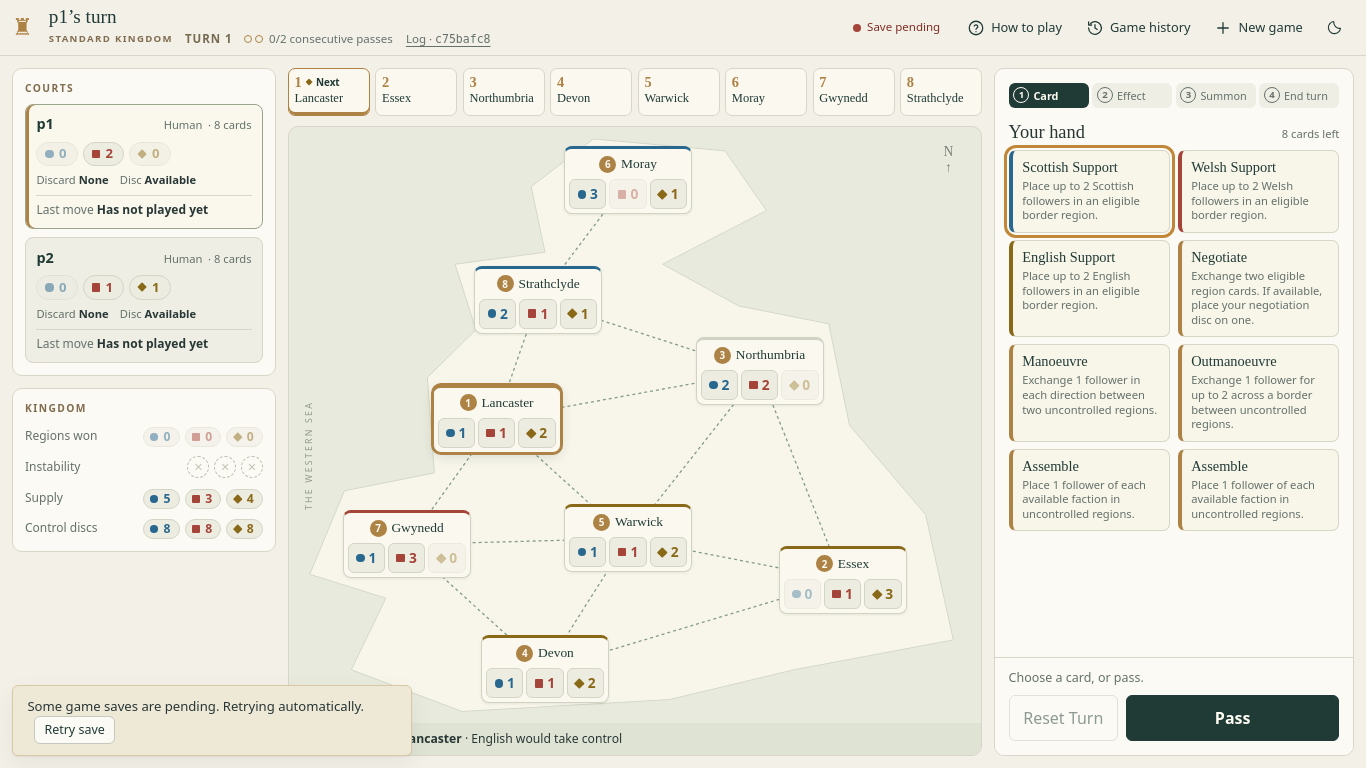
Test: recovering an interrupted game › opens the newer position when the same game advanced in another tab
Click the button "Game history" at (1138, 28), box top-left (1075, 10), bottom-right (1201, 46)
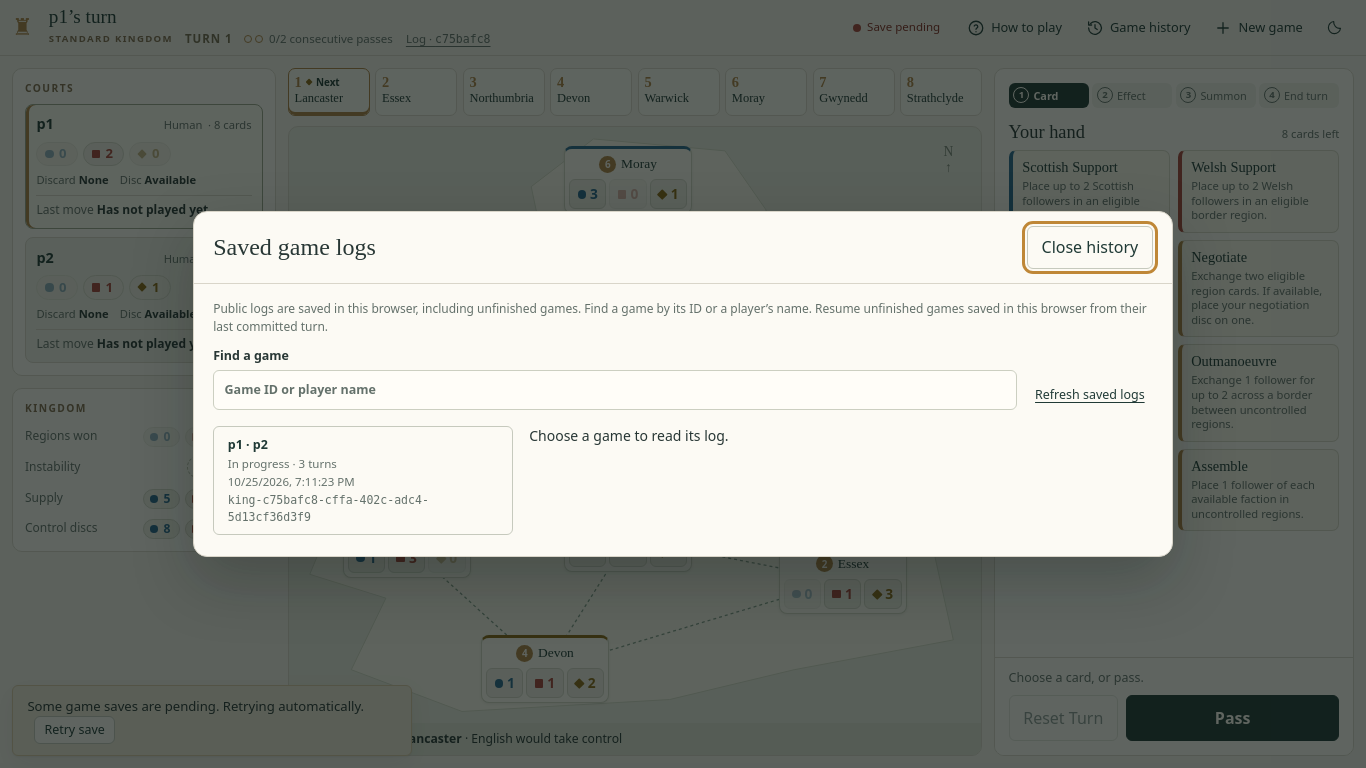
Click the button that starts with "p1 · p2" at (248, 444), box top-left (213, 426), bottom-right (513, 535)
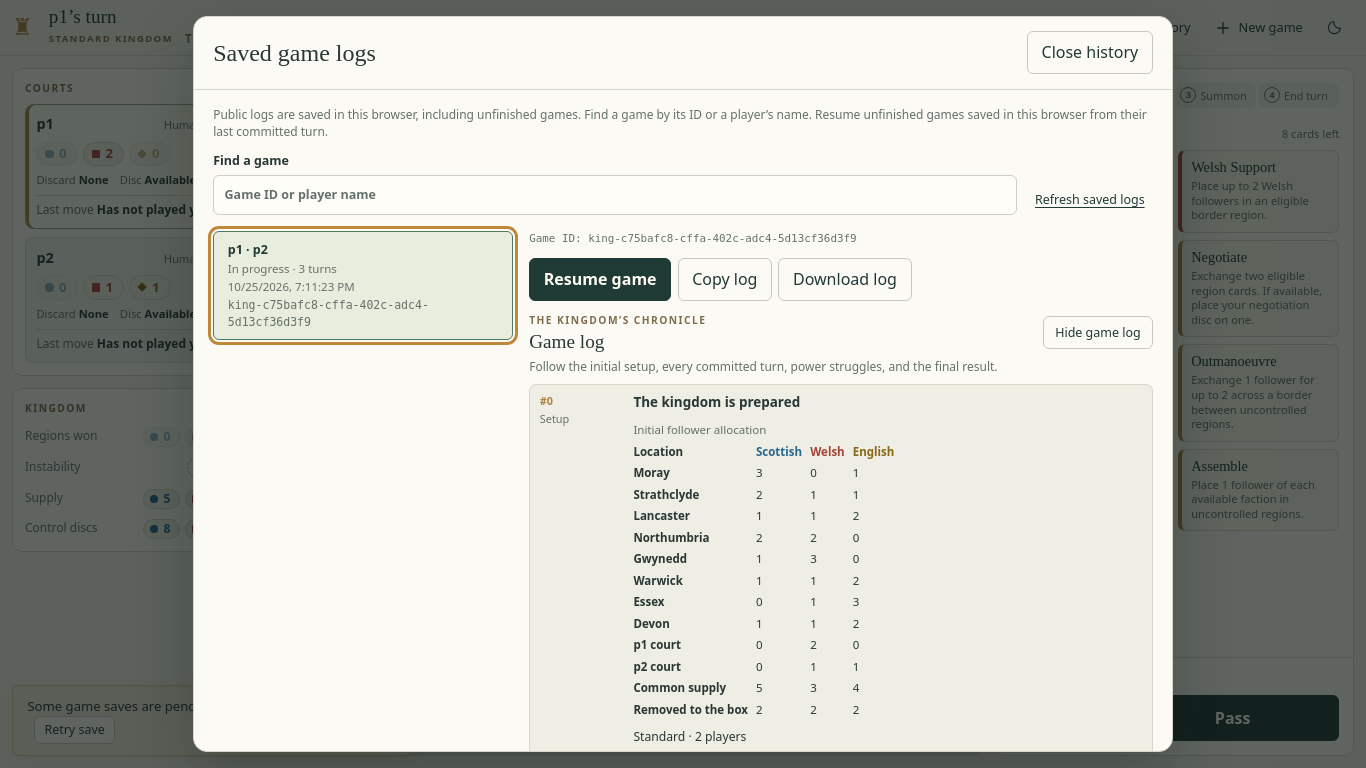
Click the button "Resume game" at (600, 279), box top-left (529, 258), bottom-right (671, 301)
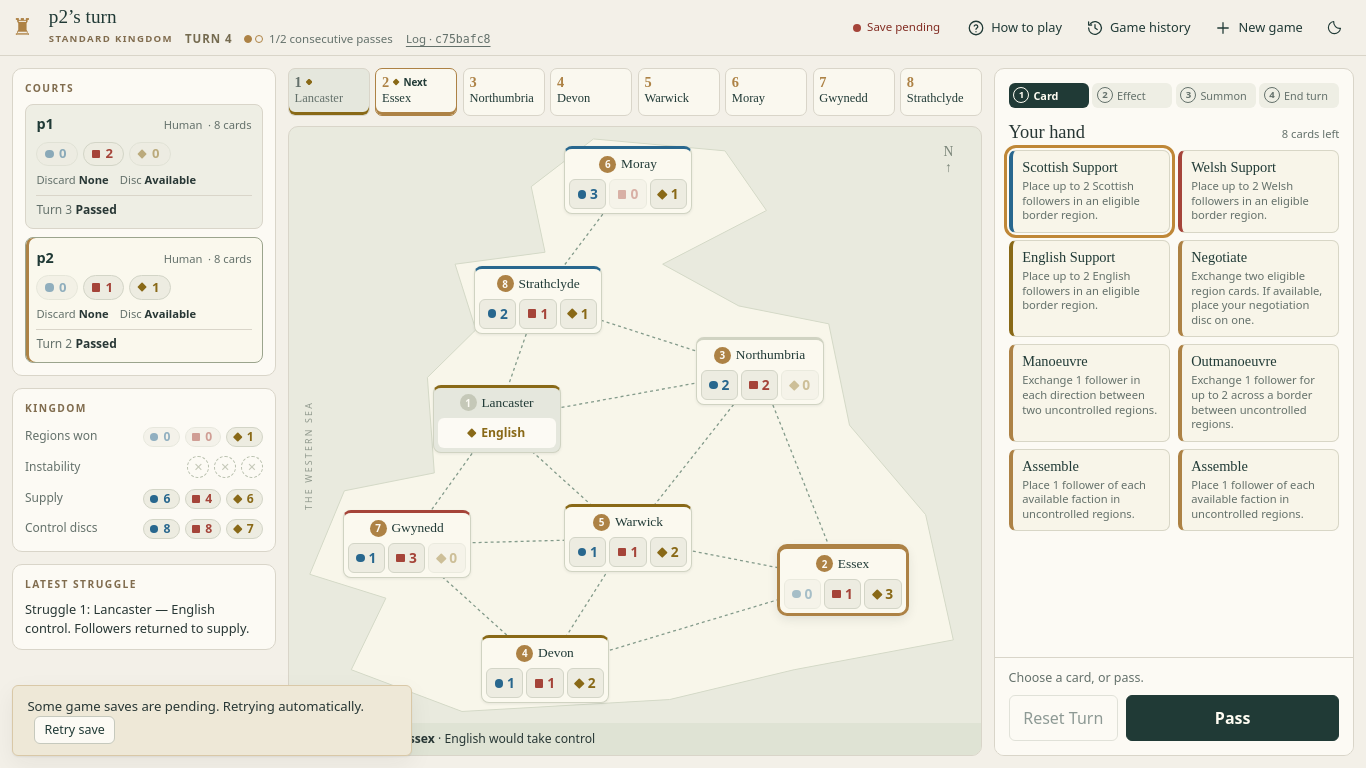
Expected: the text "TURN 4" is shown, top-left (185, 31), bottom-right (232, 48)
